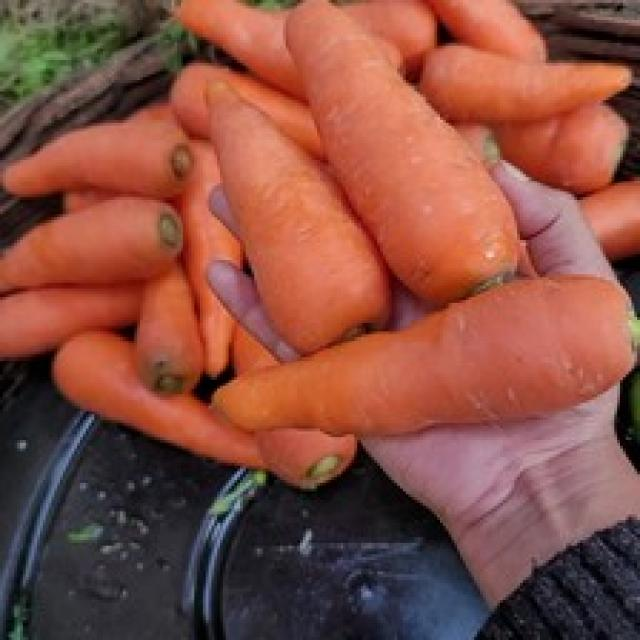Fresh_Carrot: (232, 203, 594, 435), (270, 2, 494, 257), (193, 78, 354, 303)
